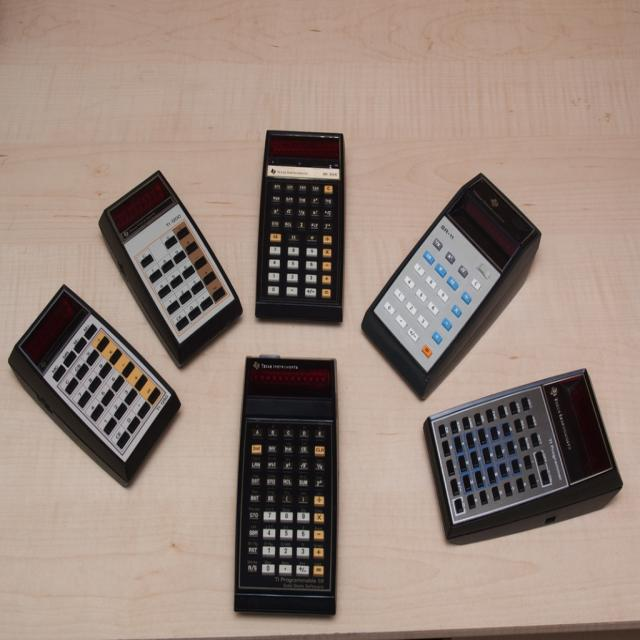Calculator: (360, 170, 543, 402), (361, 174, 544, 402), (421, 363, 626, 546), (8, 282, 183, 490), (424, 366, 624, 547), (7, 286, 181, 488), (98, 167, 245, 372), (96, 168, 243, 370), (235, 352, 340, 614), (256, 128, 346, 322)
